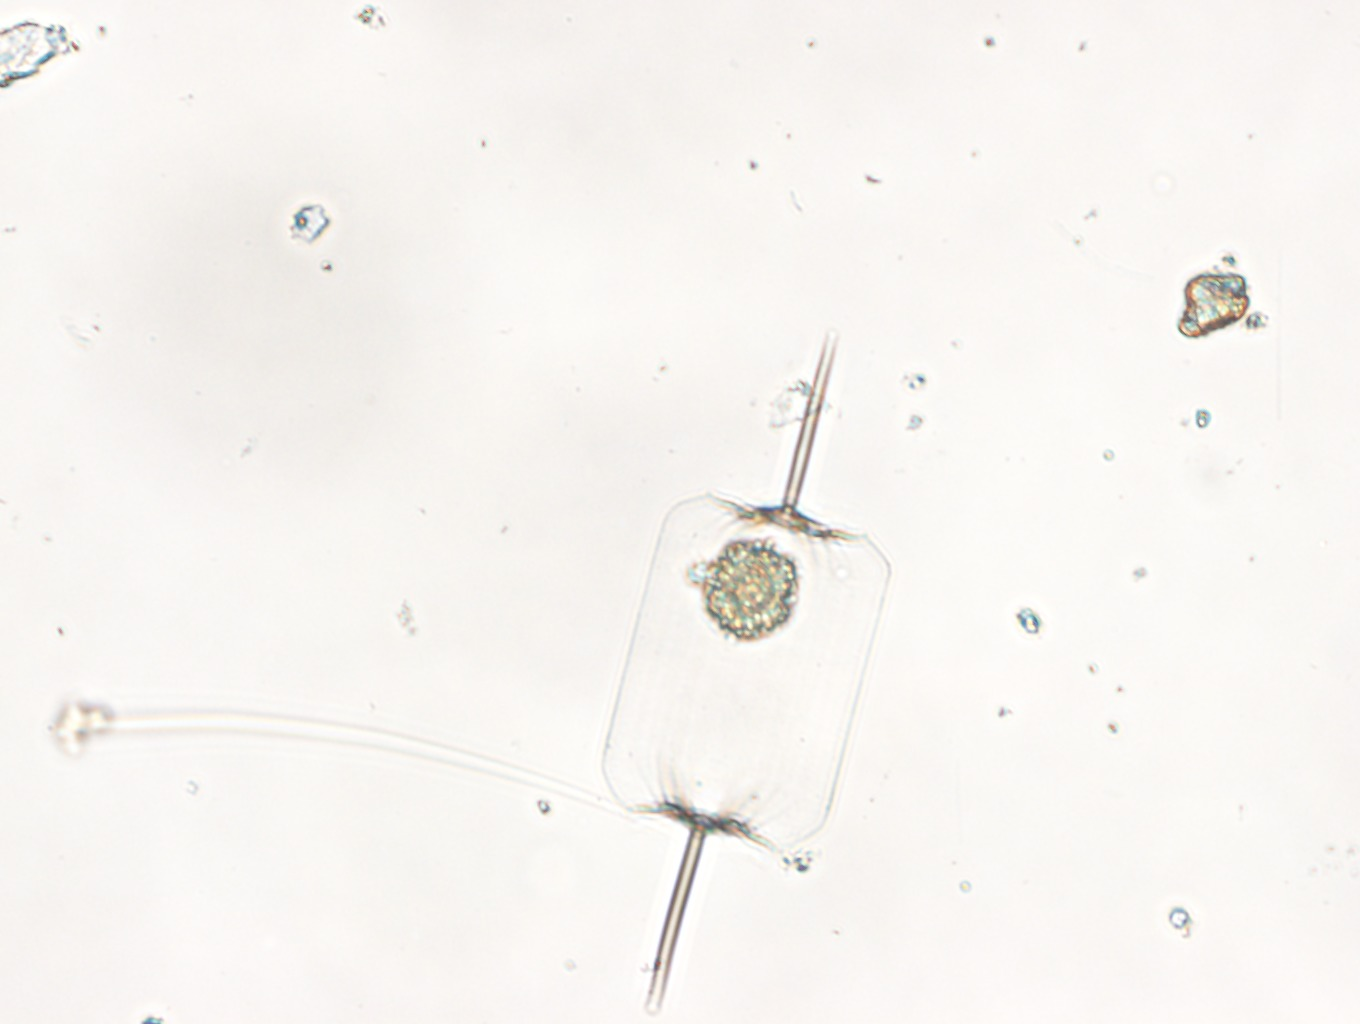ditylum: (600, 330, 893, 1016)
